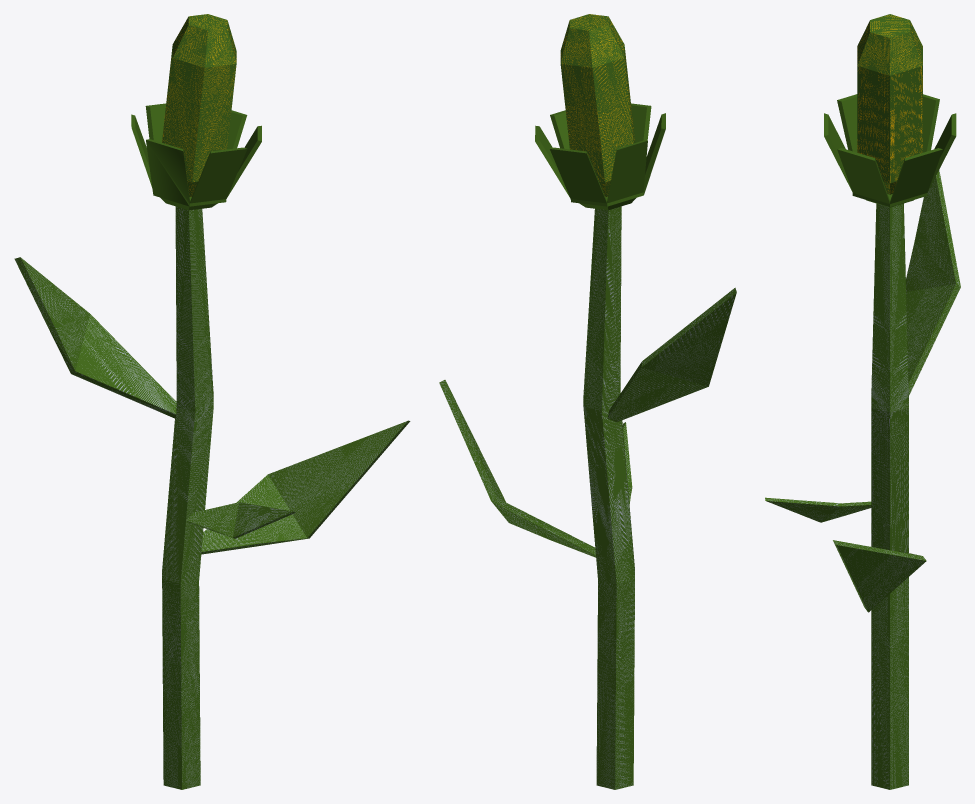
Rendered from Corn_Plant_02.fbx.
The picture shows the model from 3 angles, left to right: view 1: azimuth 30°, elevation 25°; view 2: azimuth 150°, elevation 25°; view 3: azimuth 270°, elevation 25°; orthographic projection. The views are drawn at different scales.
Visible parts, largest first — view 1: Model; view 2: Model; view 3: Model.
Boxes of the visible parts, left/top/right/bottom form: Model: left=14, top=14, right=410, bottom=789; Model: left=439, top=14, right=736, bottom=789; Model: left=765, top=14, right=960, bottom=789.
Bounding box in the file's own units: 137 × 285 × 65.65.
